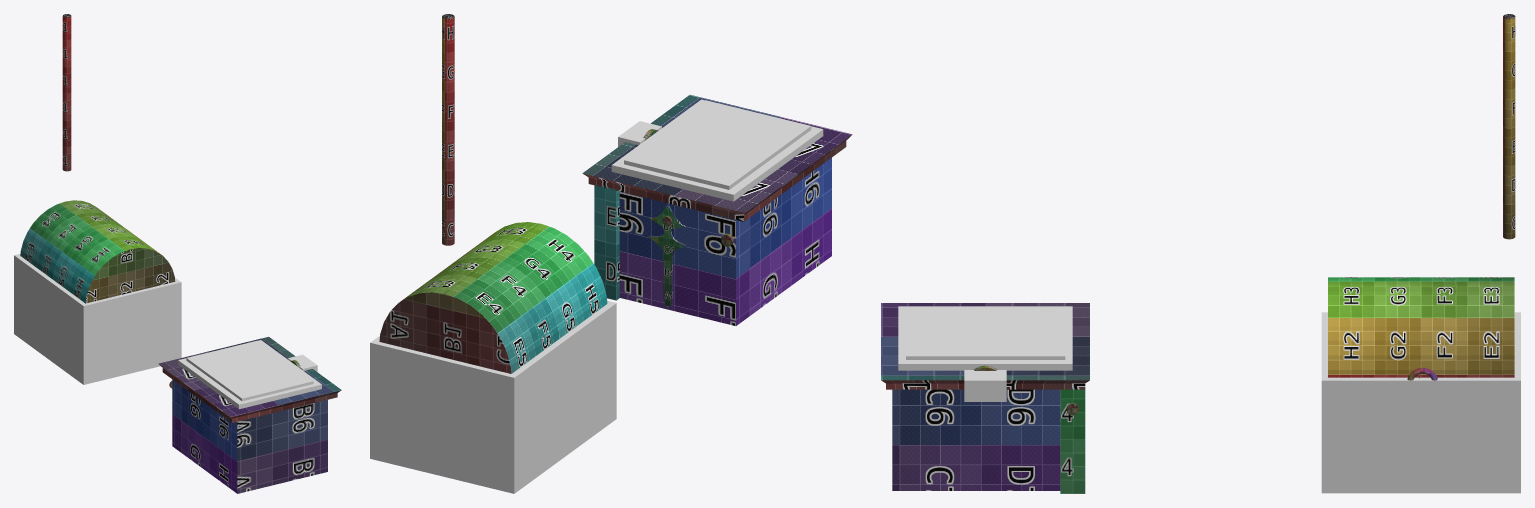
The model's file is cofre.glb.
The picture shows the model from 3 angles, left to right: view 1: azimuth 30°, elevation 25°; view 2: azimuth 150°, elevation 25°; view 3: azimuth 270°, elevation 25°; orthographic projection. The views are drawn at different scales.
Visible parts, largest first — view 1: TapaderaSust, Caja, Tapadera, CajaInt.001, MarcoSup, CilindroAdornoTapa, CajaInt; view 2: TapaderaSust, Tapadera, Caja, CajaInt.001, MarcoSup, CajaInt, CilindroAdornoTapa, Refuerzos, AdornoFlecha, MarcoSupSust; view 3: TapaderaSust, Tapadera, Caja, CajaInt.001, MarcoSup, CilindroAdornoTapa, CajaInt, Refuerzos, MarcoSupSust.
Boxes of the visible parts, left/top/right/bottom form: TapaderaSust: left=14, top=253, right=181, bottom=384; Caja: left=172, top=379, right=327, bottom=493; Tapadera: left=20, top=200, right=175, bottom=303; CajaInt.001: left=186, top=340, right=313, bottom=401; MarcoSup: left=158, top=336, right=341, bottom=422; CilindroAdornoTapa: left=62, top=14, right=71, bottom=171; CajaInt: left=178, top=340, right=321, bottom=409; TapaderaSust: left=370, top=300, right=616, bottom=493; Tapadera: left=379, top=222, right=607, bottom=373; Caja: left=619, top=157, right=831, bottom=325; CajaInt.001: left=624, top=100, right=811, bottom=189; MarcoSup: left=582, top=95, right=852, bottom=221; CajaInt: left=611, top=99, right=823, bottom=201; CilindroAdornoTapa: left=442, top=14, right=454, bottom=245; Refuerzos: left=594, top=184, right=619, bottom=300; AdornoFlecha: left=649, top=204, right=687, bottom=306; MarcoSupSust: left=618, top=121, right=661, bottom=146; TapaderaSust: left=1321, top=312, right=1520, bottom=493; Tapadera: left=1328, top=277, right=1514, bottom=377; Caja: left=892, top=389, right=1060, bottom=490; CajaInt.001: left=906, top=306, right=1065, bottom=359; MarcoSup: left=881, top=303, right=1089, bottom=389; CilindroAdornoTapa: left=1503, top=14, right=1515, bottom=239; CajaInt: left=898, top=306, right=1072, bottom=370; Refuerzos: left=1060, top=389, right=1085, bottom=493; MarcoSupSust: left=964, top=370, right=1006, bottom=401.
Size of the model in its own units: 3.07 by 7.85 by 10.28.
Materials: 12 (12 with a texture image).
